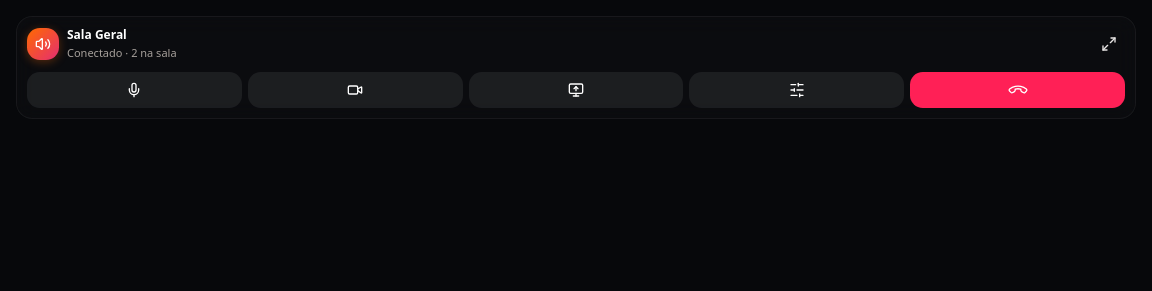
Test case: sensibilidade do microfone › diz que está transmitindo quando a voz passa do corte
Click the button named "Configurações da chamada". click: (797, 90)
box: [689,72,904,108]
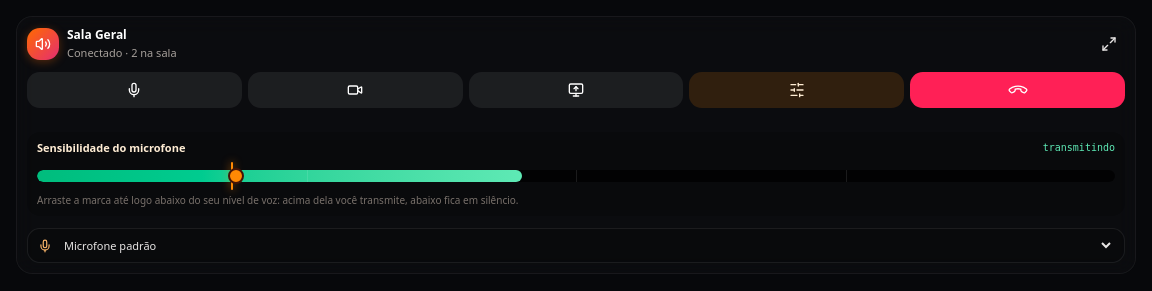
Expected: the text "transmitindo" is shown, [1043,140,1115,155]
